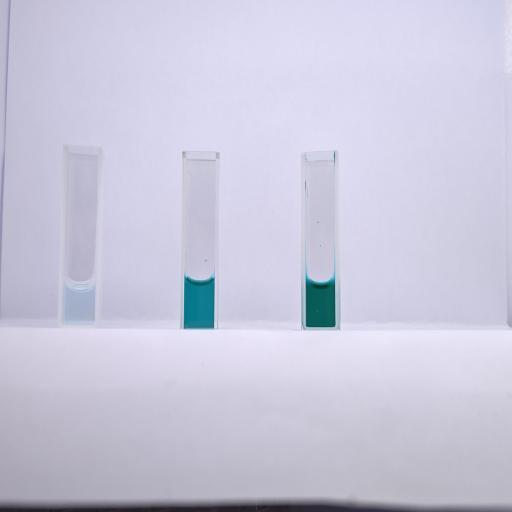cuvette: (57, 141, 104, 330), (299, 149, 341, 332), (178, 149, 220, 329)
liquid: (62, 279, 94, 325), (306, 277, 335, 327), (184, 278, 214, 326)
